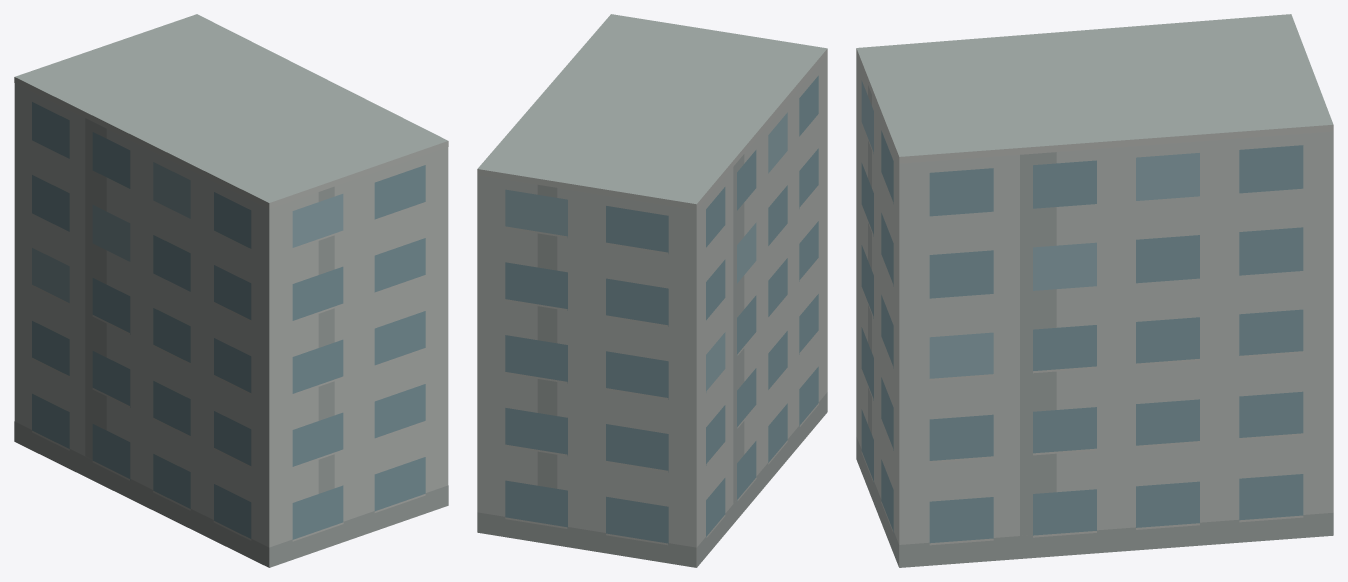
The model's file is survey-upis-32734495.glb.
3 renders of one model, left to right at view 1: azimuth 30°, elevation 25°; view 2: azimuth 150°, elevation 25°; view 3: azimuth 270°, elevation 25°, orthographic. The views are drawn at different scales.
Visible parts, largest first — view 1: survey-upis-32734495.tmp; view 2: survey-upis-32734495.tmp; view 3: survey-upis-32734495.tmp.
Boxes of the visible parts, x1=… form: survey-upis-32734495.tmp: x1=14, y1=14, x2=448, y2=567; survey-upis-32734495.tmp: x1=477, y1=14, x2=827, y2=567; survey-upis-32734495.tmp: x1=856, y1=14, x2=1333, y2=567.
Bounding box in the file's own units: 10.9 × 14.6 × 15.37.
